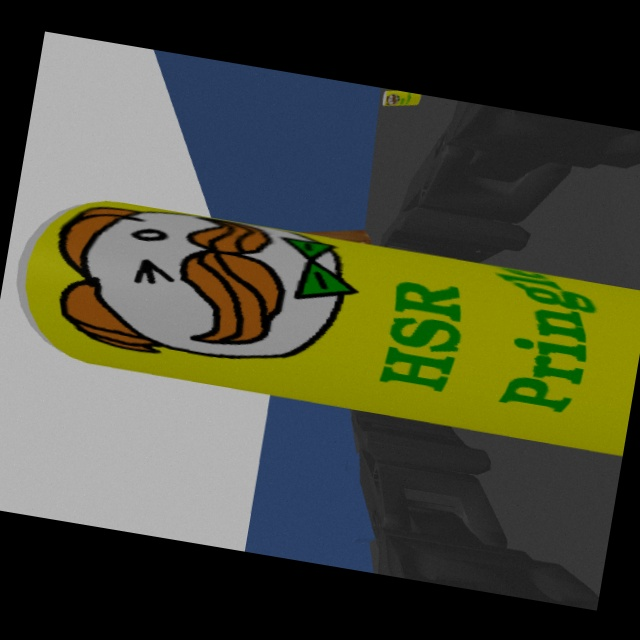chipsdose_gelb: (17, 200, 640, 458), (382, 89, 421, 107)
